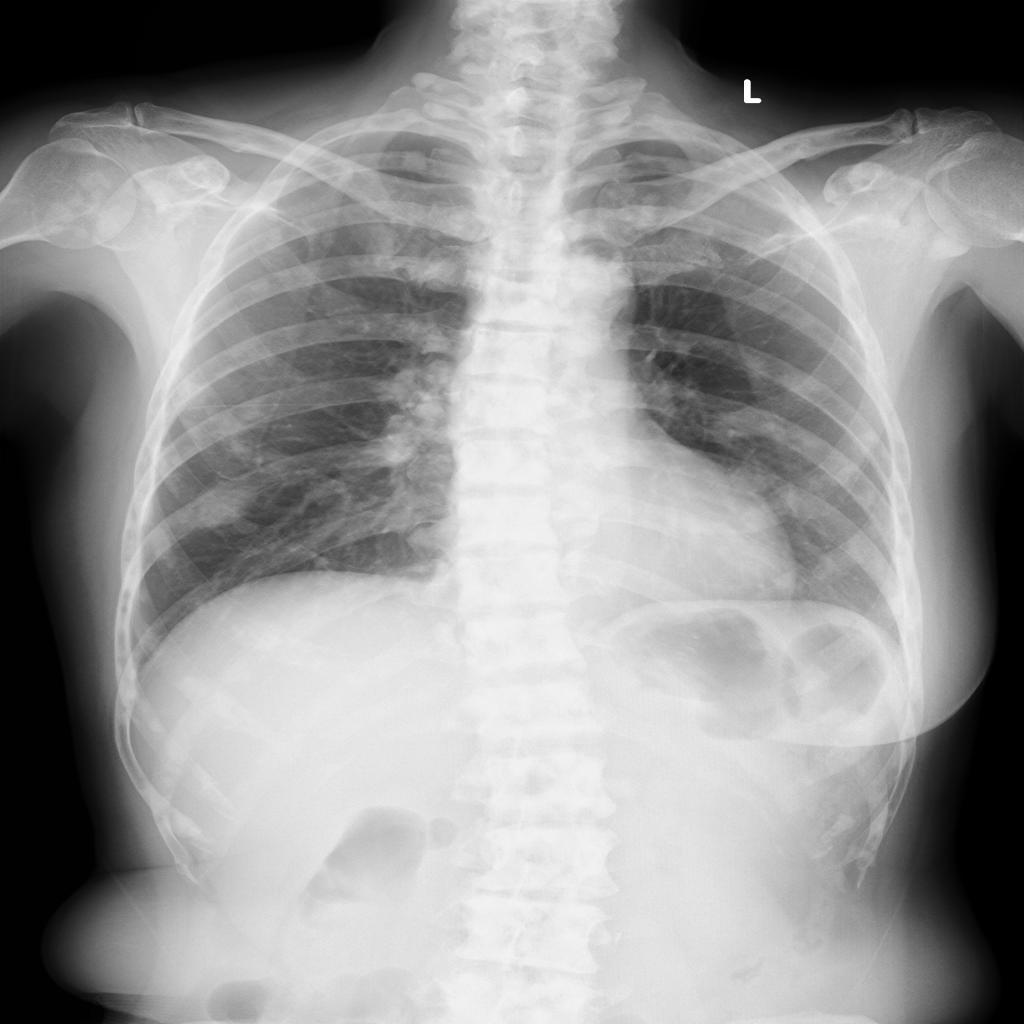Nodule: (191, 477, 258, 527), (730, 458, 778, 493), (405, 151, 428, 172)
